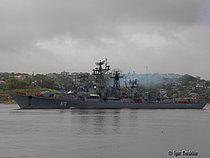MIL_Ship: (10, 57, 208, 110)
